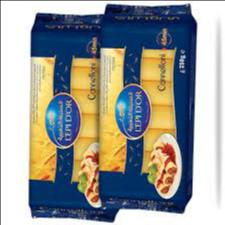Cannelloni: (99, 3, 196, 213), (30, 12, 118, 223)
